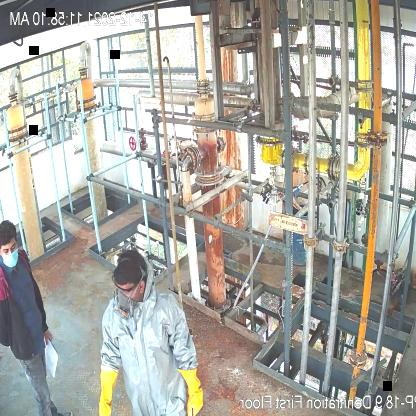mask: (112, 291, 136, 321)
no_goggles: (2, 240, 18, 256)
